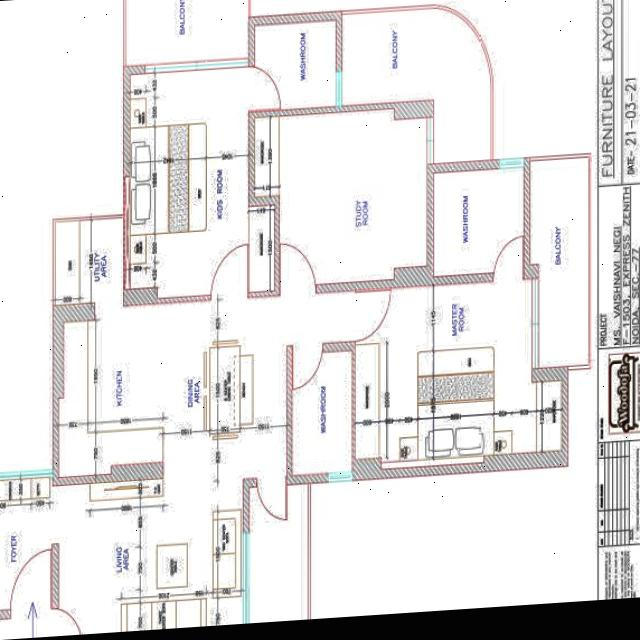room: (346, 277, 567, 461), (249, 103, 437, 286), (46, 469, 251, 636), (129, 67, 272, 296), (341, 7, 491, 164), (59, 305, 163, 476), (180, 309, 280, 462), (529, 158, 588, 368), (435, 163, 523, 277), (250, 21, 341, 107), (251, 484, 307, 623), (125, 0, 246, 64), (292, 349, 351, 474), (0, 475, 51, 608), (57, 218, 124, 302)
